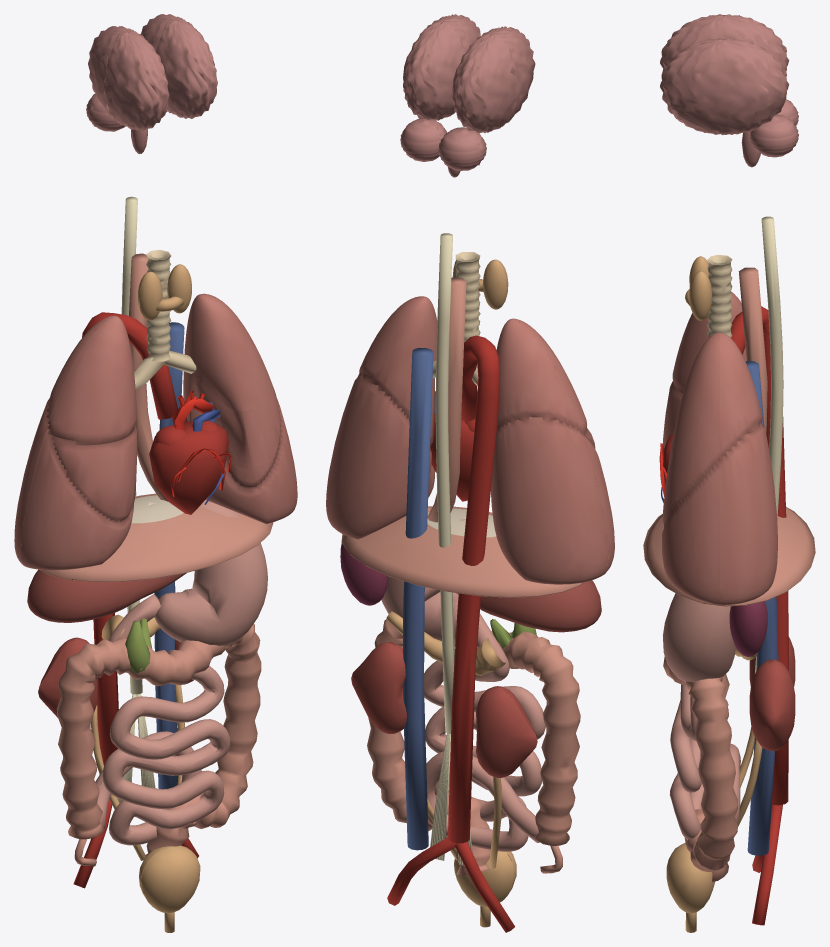
The model's file is lab-organs-approved-v1-normal.glb.
3 renders of one model, left to right at view 1: azimuth 30°, elevation 25°; view 2: azimuth 150°, elevation 25°; view 3: azimuth 270°, elevation 25°, orthographic. The views are drawn at different scales.
Parts seen in each view (by area): view 1: part-large-intestine__mesh, review-small-intestine, part-brain-structures, part-right-lung-lower, part-diaphragm__mesh, part-left-lung-upper, part-right-lung-upper, review-stomach, part-right-lung-middle, review-liver, part-great-vessels__mesh, part-myocardium (+13 smaller); view 2: part-right-lung-lower, part-brain-structures, part-great-vessels__mesh, part-large-intestine__mesh, part-left-lung-lower, part-great-vessels__mesh.001, part-diaphragm__mesh, review-small-intestine, part-kidneys__mesh, part-spinal-cord__mesh, part-right-lung-upper, part-left-lung-upper (+10 smaller); view 3: part-brain-structures, part-left-lung-lower, part-left-lung-upper, part-large-intestine__mesh, review-stomach, part-great-vessels__mesh, part-diaphragm__mesh, review-small-intestine, part-kidneys__mesh, part-spinal-cord__mesh, part-great-vessels__mesh.001, part-bladder__mesh (+7 smaller).
Part boxes in pixels (x1,y1,x2,y2): part-large-intestine__mesh: (56, 623, 261, 866); review-small-intestine: (95, 594, 230, 845); part-brain-structures: (86, 14, 217, 154); part-right-lung-lower: (14, 398, 133, 570); part-diaphragm__mesh: (39, 493, 273, 581); part-left-lung-upper: (183, 293, 280, 486); part-right-lung-upper: (46, 315, 136, 445); review-stomach: (154, 500, 267, 646); part-right-lung-middle: (52, 424, 137, 521); review-liver: (27, 569, 186, 622); part-great-vessels__mesh: (73, 312, 198, 888); part-myocardium: (149, 421, 229, 514); part-right-lung-lower: (491, 417, 614, 584); part-brain-structures: (400, 14, 535, 177); part-great-vessels__mesh: (387, 335, 514, 932); part-large-intestine__mesh: (367, 619, 580, 875); part-left-lung-lower: (326, 374, 434, 539); part-great-vessels__mesh.001: (403, 348, 433, 850); part-diaphragm__mesh: (341, 506, 582, 597); review-small-intestine: (424, 613, 545, 851); part-kidneys__mesh: (351, 642, 537, 777); part-spinal-cord__mesh: (430, 233, 472, 865); part-right-lung-upper: (496, 318, 586, 435); part-left-lung-upper: (358, 296, 437, 445); part-brain-structures: (660, 14, 798, 167); part-left-lung-lower: (662, 423, 777, 605); part-left-lung-upper: (662, 332, 762, 523); part-large-intestine__mesh: (663, 656, 737, 881); review-stomach: (663, 593, 735, 682); part-great-vessels__mesh: (731, 306, 788, 925); part-diaphragm__mesh: (643, 507, 815, 606); review-small-intestine: (669, 684, 740, 839); part-kidneys__mesh: (749, 636, 795, 751); part-spinal-cord__mesh: (755, 216, 783, 673); part-great-vessels__mesh.001: (746, 361, 778, 855); part-bladder__mesh: (666, 842, 715, 932).
Bounding box in the file's own units: 32.87 × 104 × 18.
